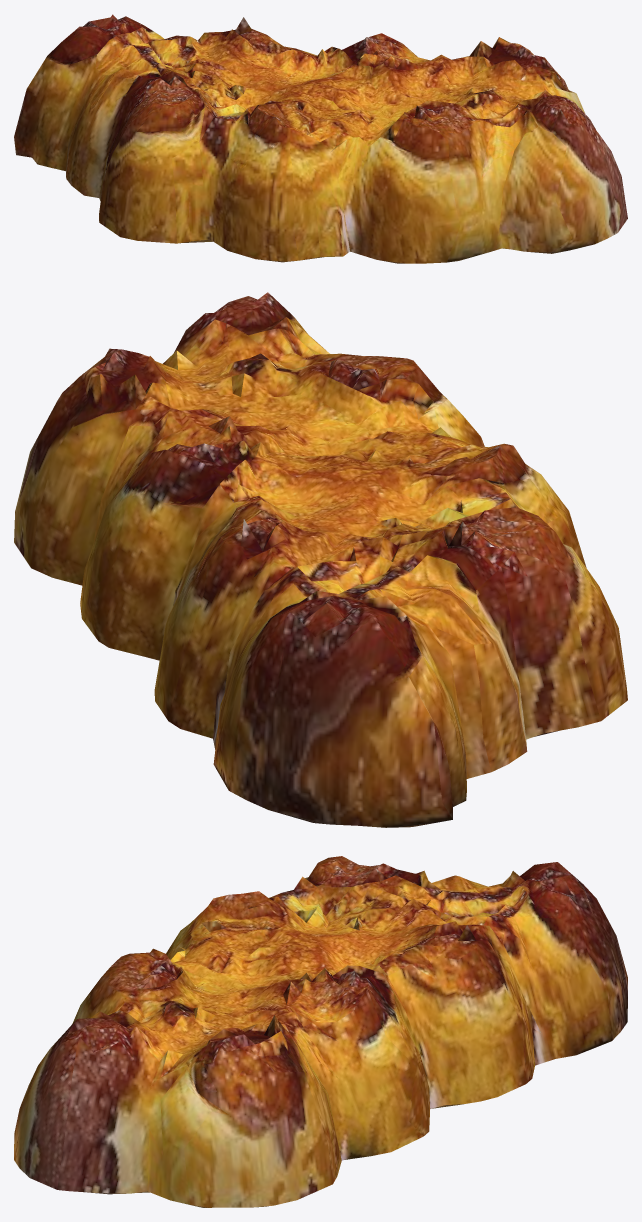
Rendered from prop_sausage_croissant.glb.
3 views of the same model, one above another, from view 1: azimuth 30°, elevation 25°; view 2: azimuth 150°, elevation 25°; view 3: azimuth 270°, elevation 25° (orthographic). The views are drawn at different scales.
Visible parts, largest first — view 1: Pastry; view 2: Pastry; view 3: Pastry.
Boxes of the visible parts, x1,y1,x2,y2 form: Pastry: [14, 14, 627, 263]; Pastry: [14, 292, 627, 827]; Pastry: [14, 856, 627, 1207].
Bounding box in the file's own units: 0.1495 × 0.0444 × 0.1566.
1 material, 1 textured.
